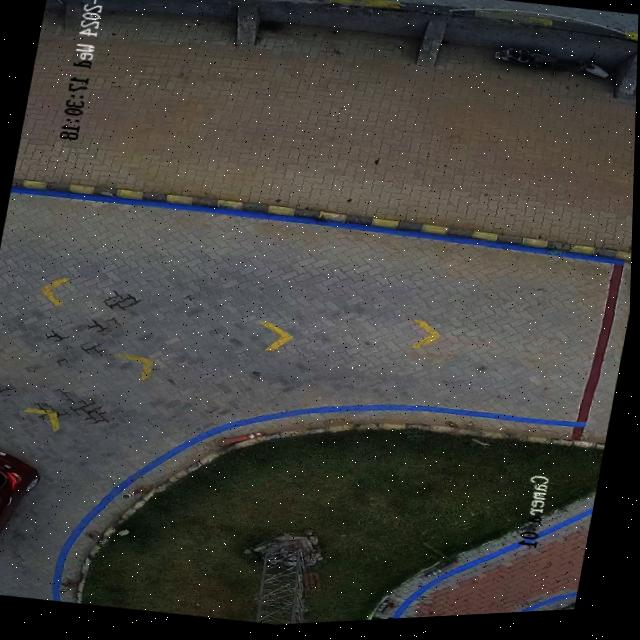car: (0, 448, 42, 547)
